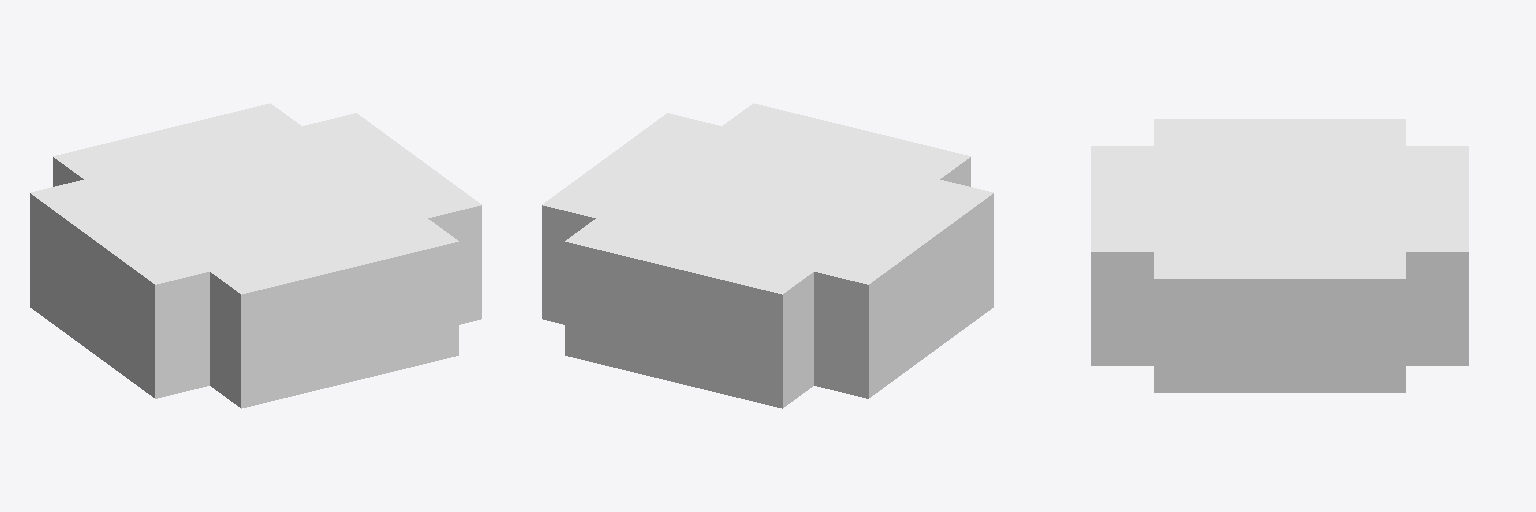
The model's file is BrownLobbyCushion.obj.
The picture shows the model from 3 angles: view 1: azimuth 30°, elevation 25°; view 2: azimuth 150°, elevation 25°; view 3: azimuth 270°, elevation 25°; orthographic projection.
Visible parts, largest first — view 1: object 1; view 2: object 1; view 3: object 1.
Part boxes in pixels (bbox=[...]): object 1: bbox=[30, 103, 481, 408]; object 1: bbox=[542, 103, 993, 408]; object 1: bbox=[1091, 119, 1468, 392].
Size of the model in its own units: 0.6 by 0.2 by 0.6.